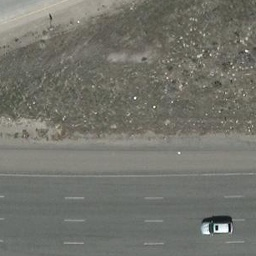car: (199, 218, 234, 237)
